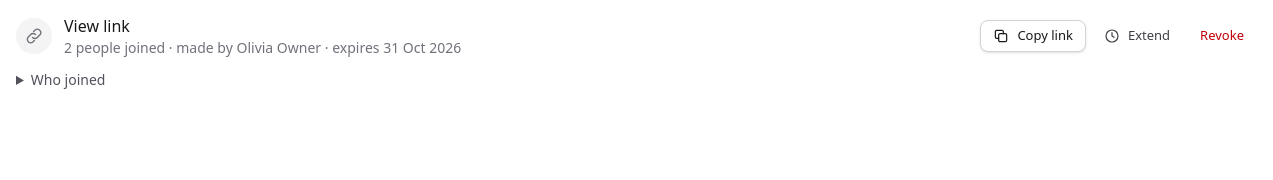
invite links (an owner request, 2026-10-24) › Extend: 1 or 7 more days, saved at once, then the new date or the reason it's refused (owner request, 2026-10-25)
This screenshot has width=1273, height=180.
Click the button with aria-label "Extend View link" at (1137, 36), box [1092,20,1182,52]
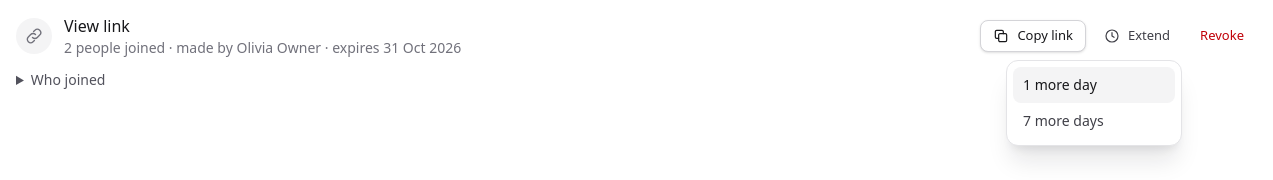
Check: the menu items read "1 more day", "7 more days", in this order
Click the menu item "7 more days" at (1094, 121), box [1013,103,1175,139]
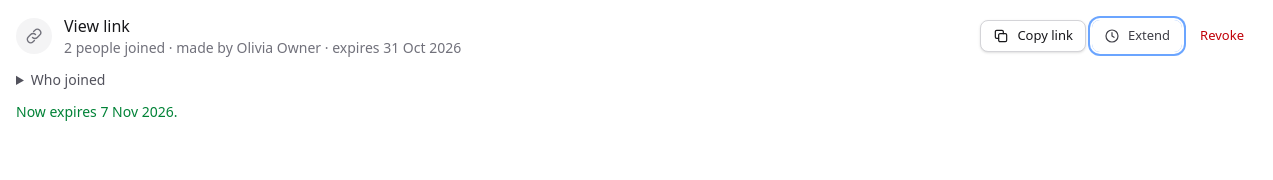
Check: the message reads "Now expires 7 Nov 2026.", box [16,102,178,121]
Click the button with aria-label "Extend View link" at (1137, 36), box [1092,20,1182,52]
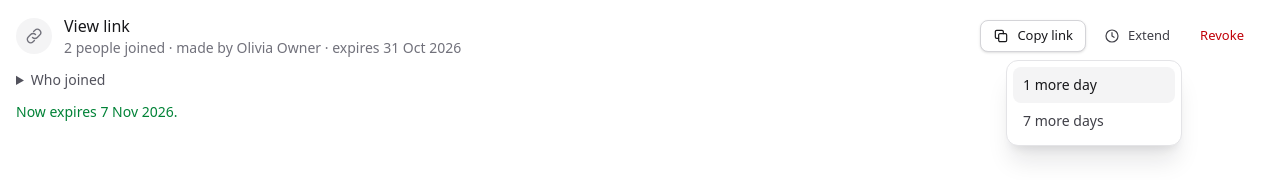
Click the menu item "1 more day" at (1094, 85), box [1013,67,1175,103]
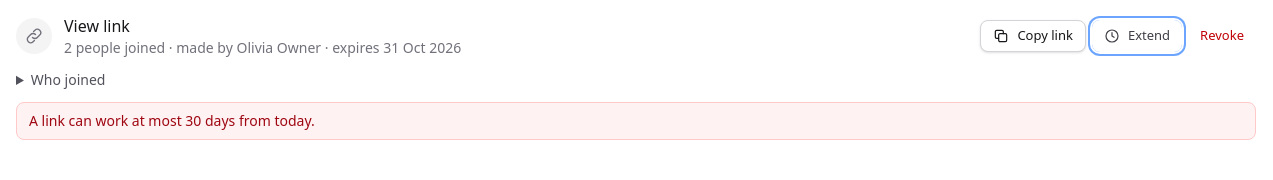
Check: the message reads "A link can work at most 30 days from today.", box [29,111,315,130]
